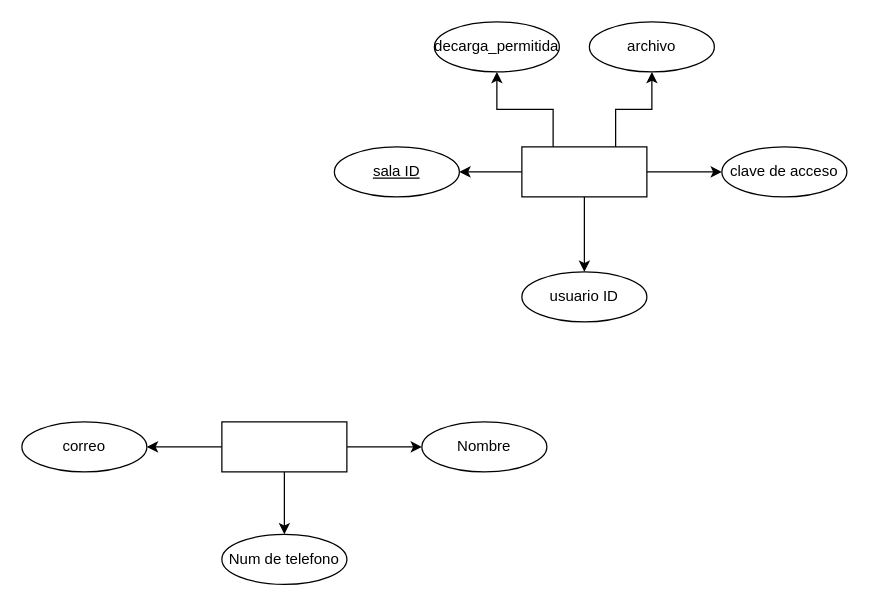
Some shapes in this 869 by 606 pixel diagram are drawn without their labels. The box of each missing label's shape, as (x1, y1, x2, y2) in pixels:
Sala: (521, 146, 647, 197)
Usuario: (221, 421, 347, 472)
